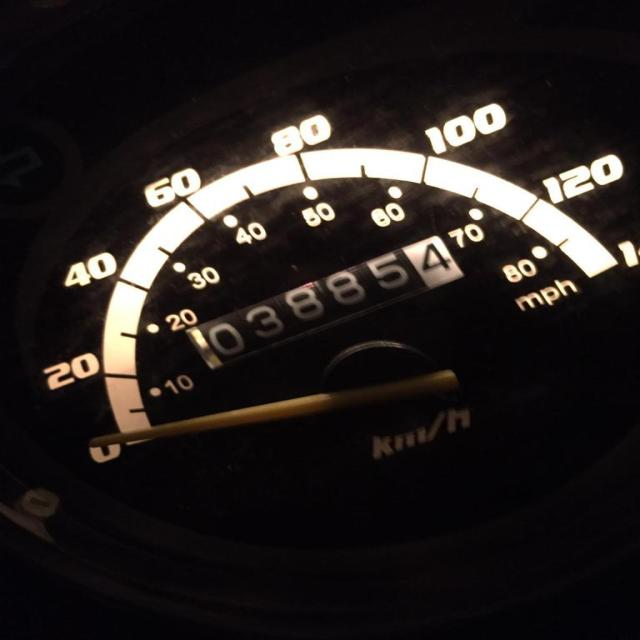odometer: (182, 233, 466, 372)
